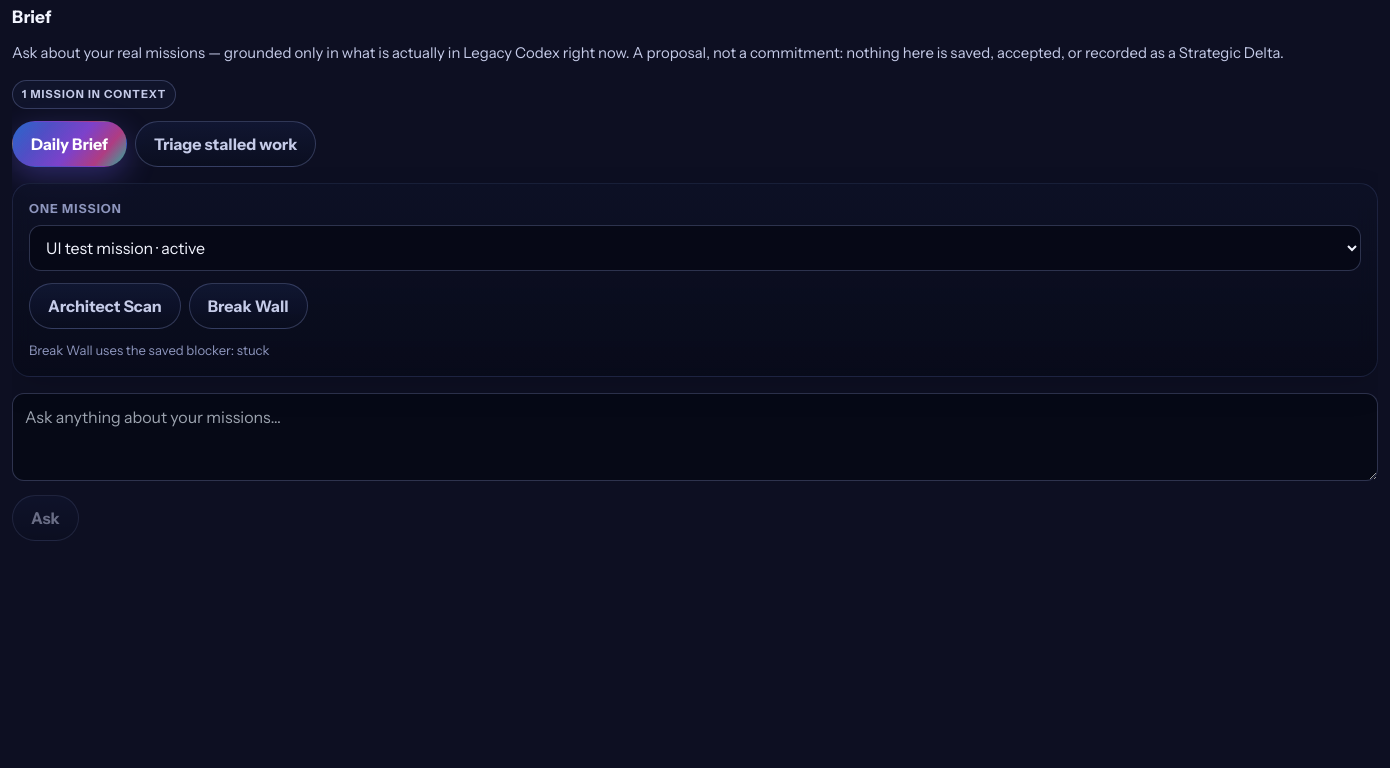
Test case: BriefTab visitor boundary › keeps Architect Scan and Break Wall off for a visitor too
Click the button "Architect Scan" at (105, 306), box [29,283,181,329]
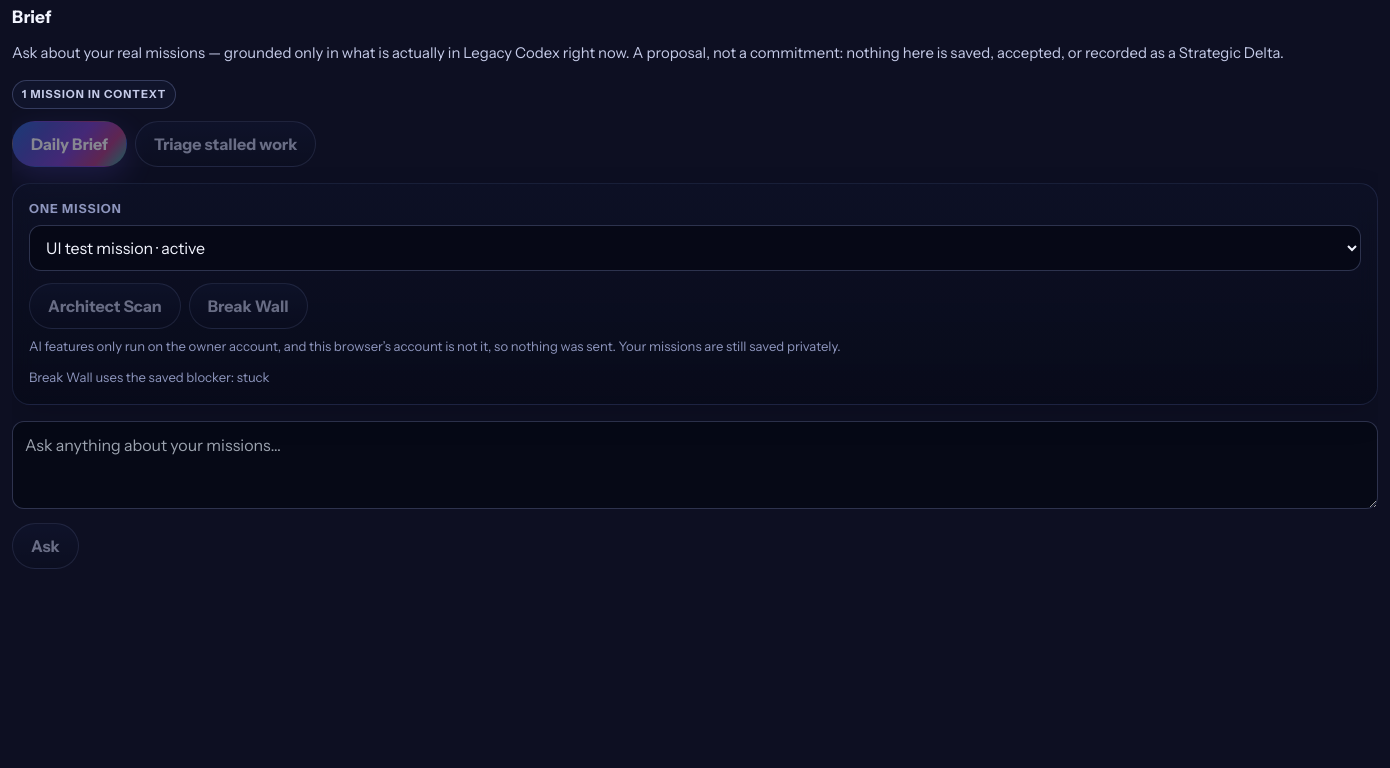
Now the text "AI features only run on the owner account, and this browser’s account is not it, so nothing was sent. Your missions are " is shown, box [29,338,841,354]
Now the button "Architect Scan" is disabled, box [29,283,181,329]
Now the button "Break Wall" is disabled, box [189,283,308,329]
